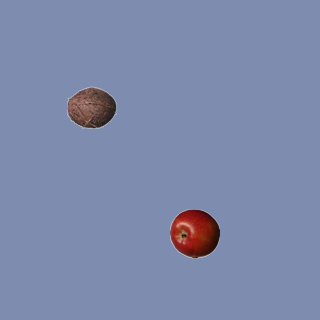Apple Braeburn: (169, 208, 219, 258)
Cocos: (66, 82, 116, 132)
